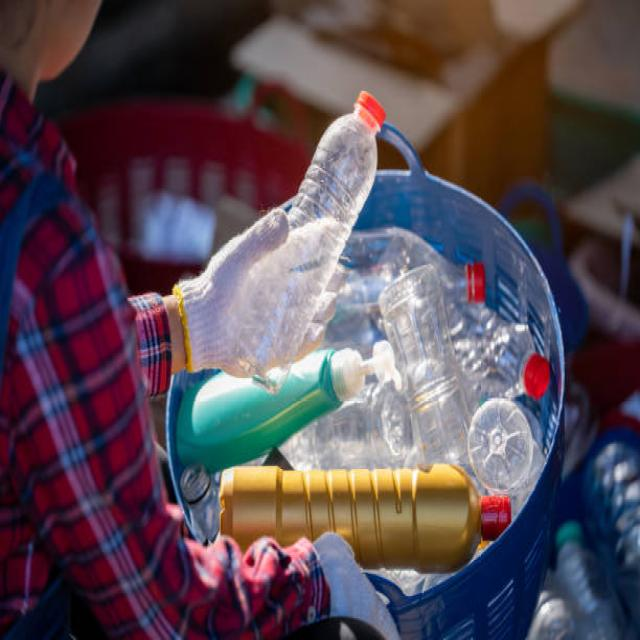plastic: (331, 251, 499, 455)
